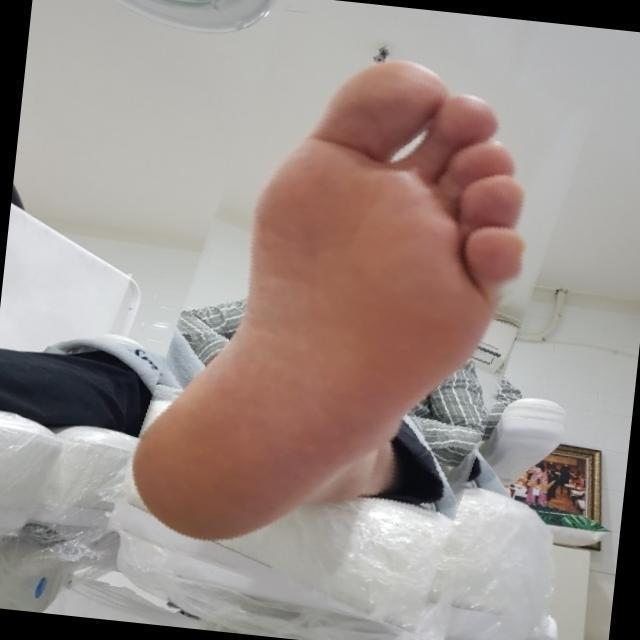No_Shoes: (127, 58, 523, 536)
